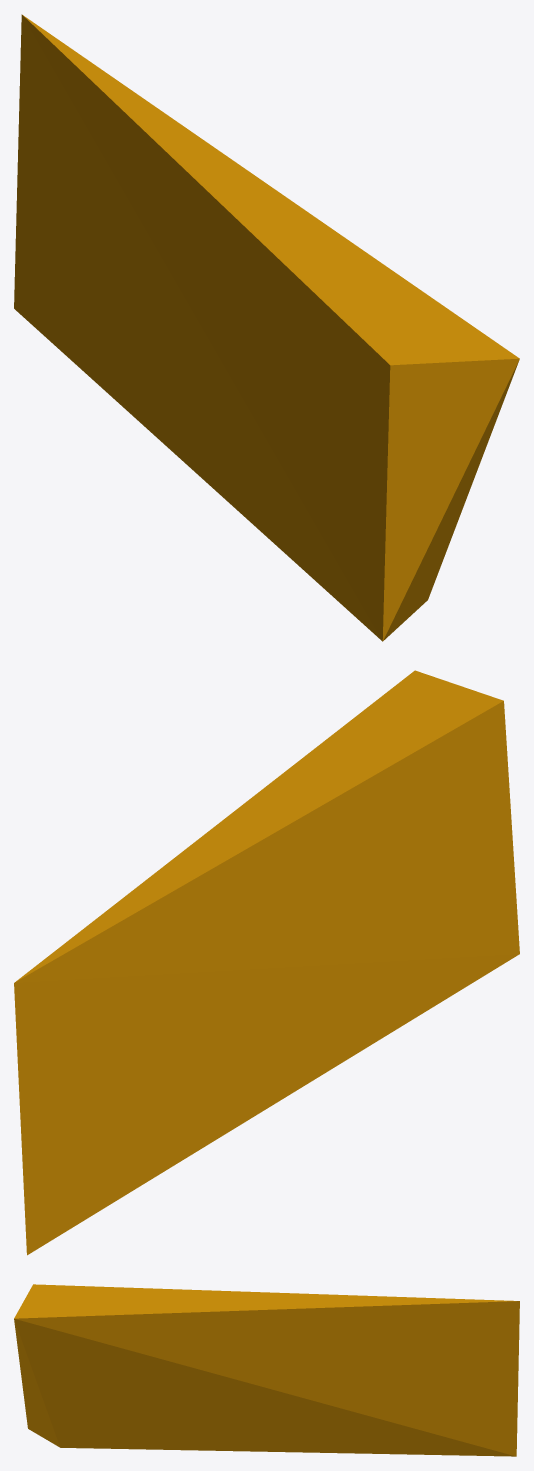
File: waste_bin_convex_piece_026.obj
The picture shows the model from 3 angles, top to bottom: view 1: azimuth 30°, elevation 25°; view 2: azimuth 150°, elevation 25°; view 3: azimuth 270°, elevation 25°; orthographic projection. The views are drawn at different scales.
Bounding box in the file's own units: 0.0126 × 0.028 × 0.0809.
